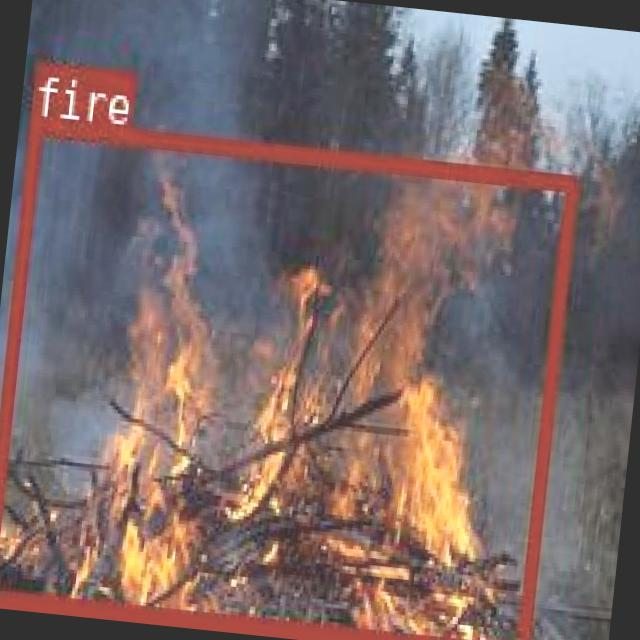fire: (0, 115, 574, 640)
